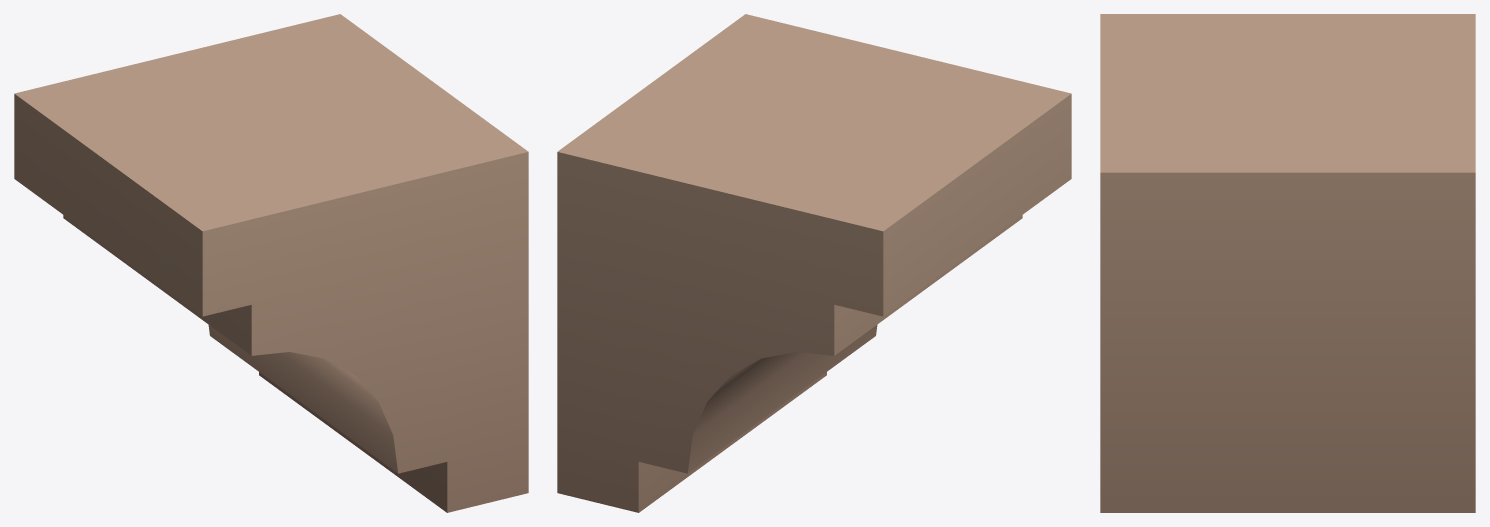
The model's file is corner-basic-c.glb.
The picture shows the model from 3 angles, left to right: view 1: azimuth 30°, elevation 25°; view 2: azimuth 150°, elevation 25°; view 3: azimuth 270°, elevation 25°; orthographic projection.
Parts seen in each view (by area): view 1: corner-basic-c; view 2: corner-basic-c; view 3: corner-basic-c.
Part boxes in pixels (x1=…): corner-basic-c: x1=14, y1=14, x2=528, y2=512; corner-basic-c: x1=557, y1=14, x2=1071, y2=512; corner-basic-c: x1=1100, y1=14, x2=1475, y2=512.
Bounding box in the file's own units: 0.2 × 0.2 × 0.2.
